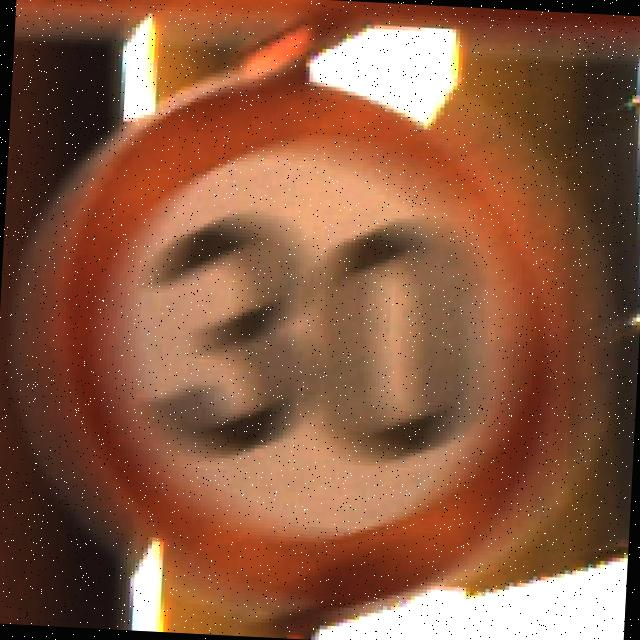Ograniczenie predkosci do 30: (34, 52, 573, 614)
